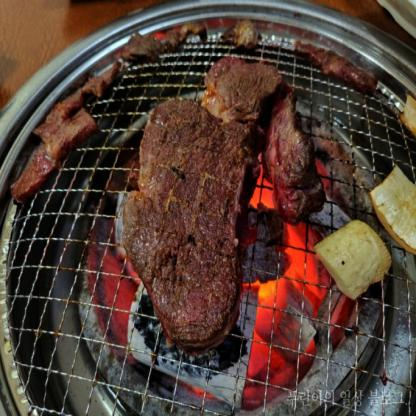Carne: (117, 56, 287, 353), (10, 87, 108, 201), (260, 86, 334, 217), (290, 38, 378, 98)
